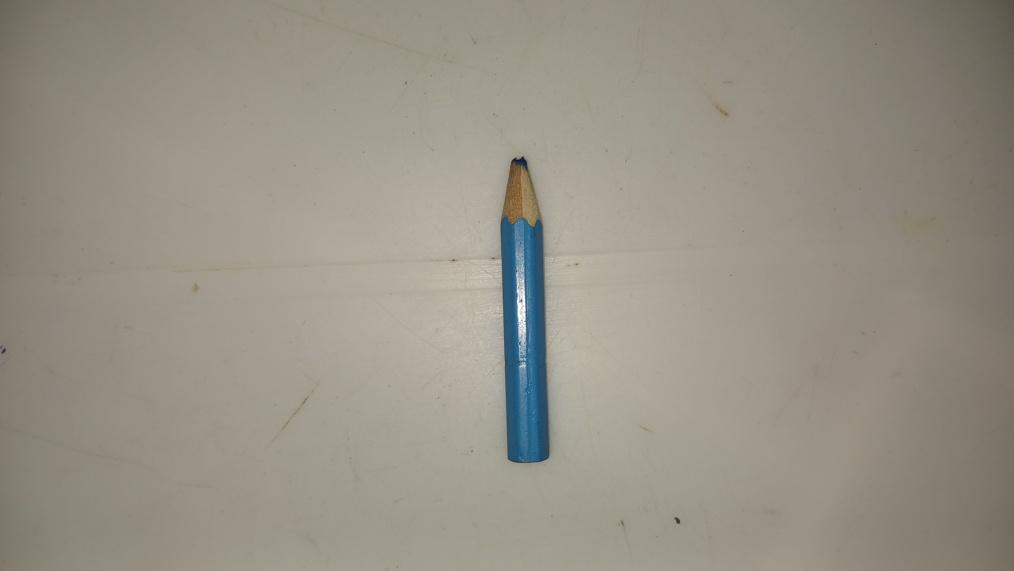Pencil: (503, 154, 547, 468)
